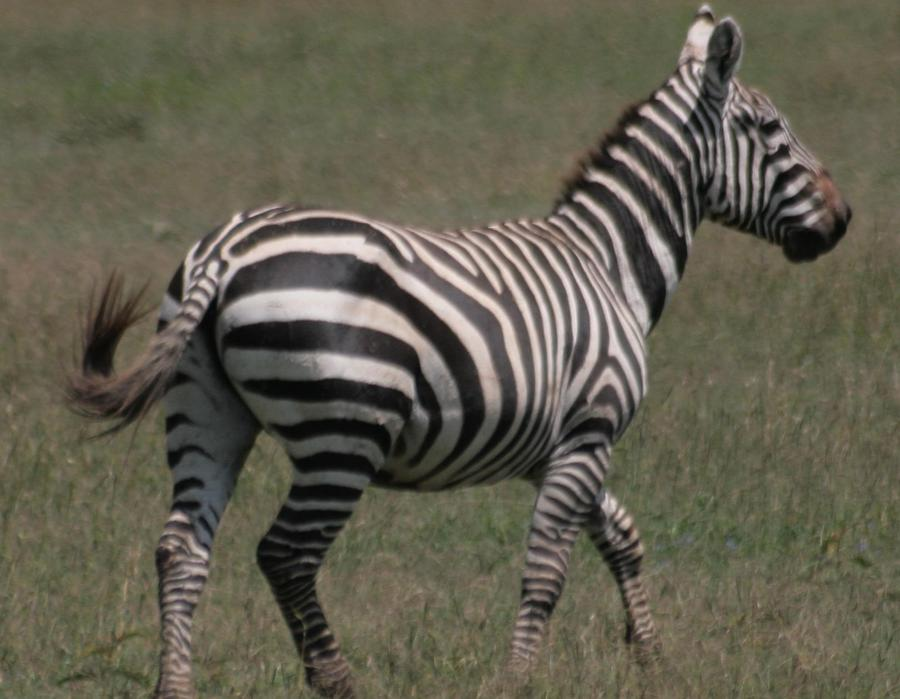zebra_plains: (227, 165, 669, 522)
